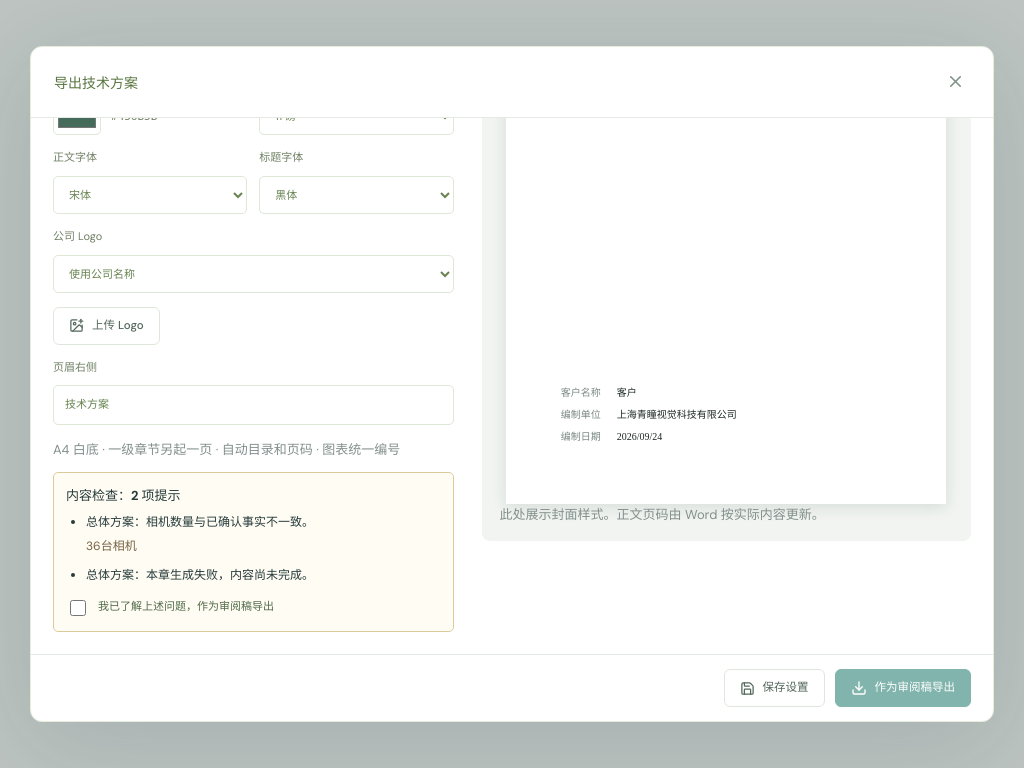
export settings interactive request lifecycle › shows fact errors and incomplete chapters, requiring an explicit draft choice before export
The image size is (1024, 768).
(page scrolled)
Expected: the button "作为审阅稿导出" is disabled, [834,669,971,707]
Click the checkbox labelled "我已了解上述问题，作为审阅稿导出": click(78, 608) [70,600,86,616]
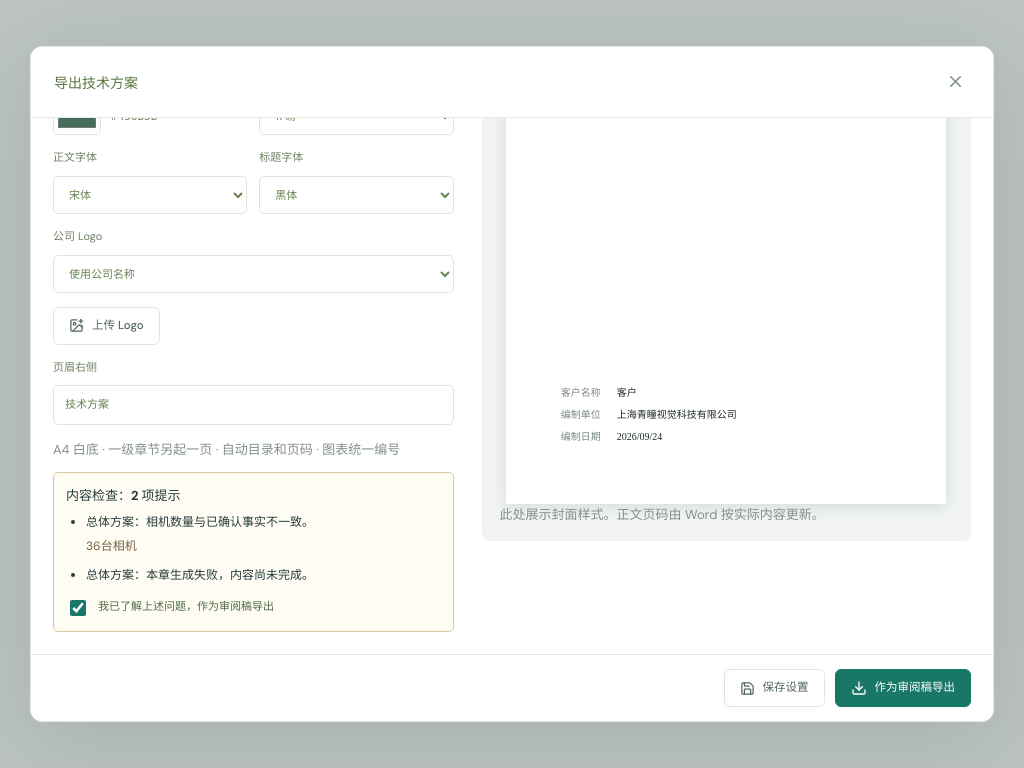
Result: the button "作为审阅稿导出" is enabled at [834,669,971,707]
